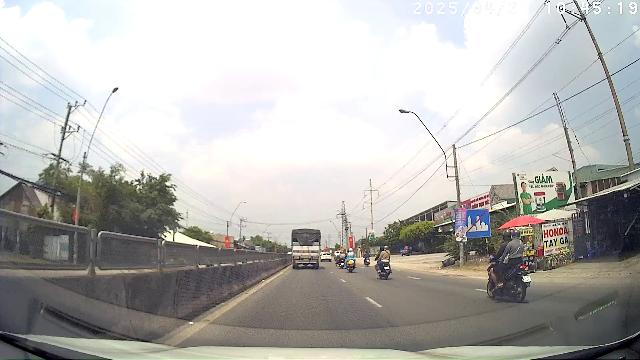421-ket-thuc-khu-dong-dan-cu: (463, 210, 491, 236)
